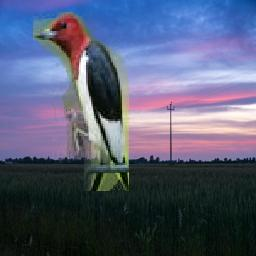Woodpecker: (33, 13, 129, 192)
